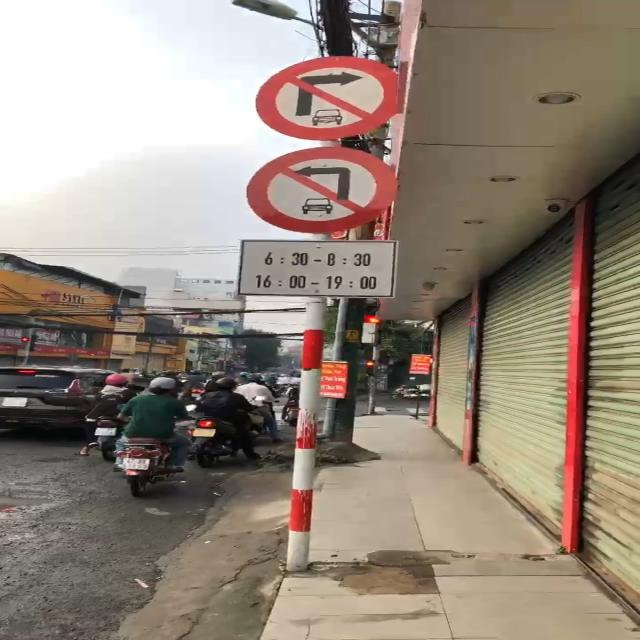Bien bao cam xe o to re phai: (249, 44, 410, 145)
Bien bao cam xe o to re trai: (247, 139, 419, 244)
